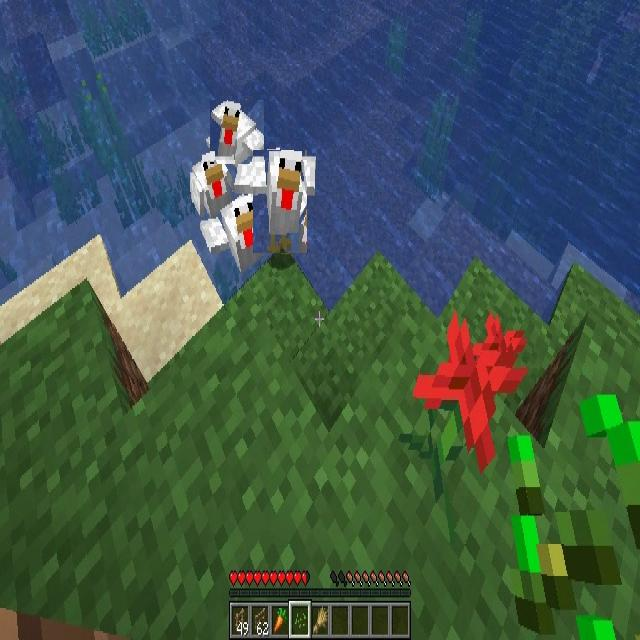duck: (254, 150, 308, 253), (201, 194, 260, 268), (210, 100, 264, 164), (191, 152, 231, 218)
